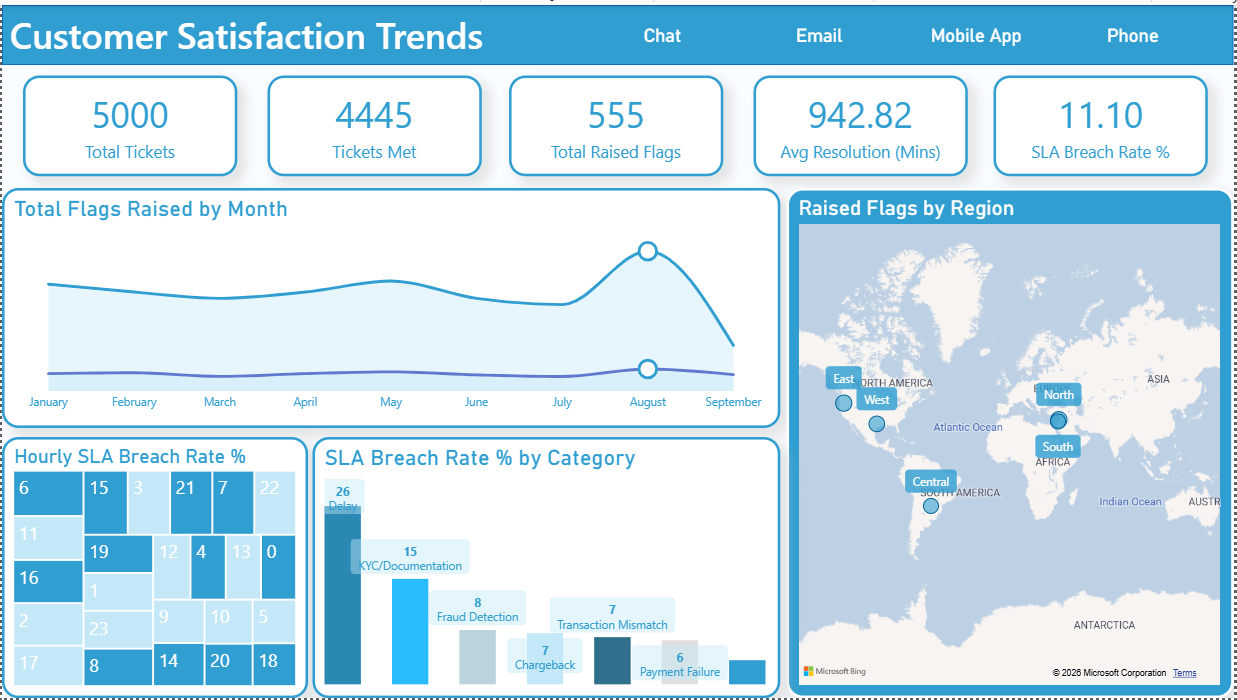

Layout of this report page (visuals, bound fields, positions):
{"tool":"powerbi","page":{"name":"New","canvas":[1280,720],"ordinal":1},"visuals":[{"type":"shape","box":[0,0,1279.5,62.3],"z":0},{"type":"textbox","box":[3.1,0,523.6,62.3],"z":1000},{"type":"slicer","fields":{"Values":["sla_data_cleaned.channel"]},"box":[579.7,0,699.7,62.3],"z":2000},{"type":"card","fields":{"Values":["Sum(sla_data_cleaned.sla_breach_flag)"]},"box":[526.8,73.2,222.9,104.4],"z":3000},{"type":"card","fields":{"Values":["sla_data_cleaned.Avg Resolution (Mins)"]},"box":[780.8,73.2,222.9,104.4],"z":4000},{"type":"card","fields":{"Values":["sla_data_cleaned.Tickets Met"]},"box":[275.8,73.2,222.9,104.4],"z":5000},{"type":"card","fields":{"Values":["Count(sla_data_cleaned.inquiry_id)"]},"box":[21.8,73.2,222.9,104.4],"z":6000},{"type":"card","fields":{"Values":["sla_data_cleaned.SLA Breach Rate %"]},"box":[1030.1,73.2,222.9,104.4],"z":7000},{"type":"lineChart","title":"Total Flags Raised by Month","fields":{"Category":["sla_data_cleaned.created_at.Variation.Date Hierarchy.Month"],"Y":["Sum(sla_data_cleaned.sla_breach_flag)","sla_data_cleaned.SLA Breach Rate %"]},"box":[0,190.1,808.8,249.4],"z":8000},{"type":"map","title":"Raised Flags by Region","fields":{"Size":["Sum(sla_data_cleaned.sla_breach_flag)"],"Category":["sla_data_cleaned.region"]},"box":[815.1,190.1,464.4,529.9],"z":9000},{"type":"treemap","title":"Hourly SLA Breach Rate %","fields":{"Group":["sla_data_cleaned.hour_of_day"],"Values":["sla_data_cleaned.SLA Breach Rate %"]},"box":[0,448.8,317.9,271.2],"z":10000},{"type":"clusteredColumnChart","fields":{"Category":["sla_data_cleaned.issue_category"],"Y":["sla_data_cleaned.SLA Breach Rate %"]},"box":[322.6,448.8,486.2,271.2],"z":11000}]}

Visuals, with their boxes in screenshot pixels (x1, y1, x2, y2), scaled from the page's 1280x720 canvas onto the 1237x700 screenshot:
shape: (0,0,1236,61)
textbox: (3,0,509,61)
slicer - sla_data_cleaned.channel: (560,0,1236,61)
card - Sum(sla_data_cleaned.sla_breach_flag): (509,71,725,173)
card - sla_data_cleaned.Avg Resolution (Mins): (755,71,970,173)
card - sla_data_cleaned.Tickets Met: (267,71,482,173)
card - Count(sla_data_cleaned.inquiry_id): (21,71,236,173)
card - sla_data_cleaned.SLA Breach Rate %: (995,71,1211,173)
"Total Flags Raised by Month" lineChart: (0,185,782,427)
"Raised Flags by Region" map: (788,185,1236,699)
"Hourly SLA Breach Rate %" treemap: (0,436,307,699)
clusteredColumnChart - sla_data_cleaned.issue_category x sla_data_cleaned.SLA Breach Rate %: (312,436,782,699)
